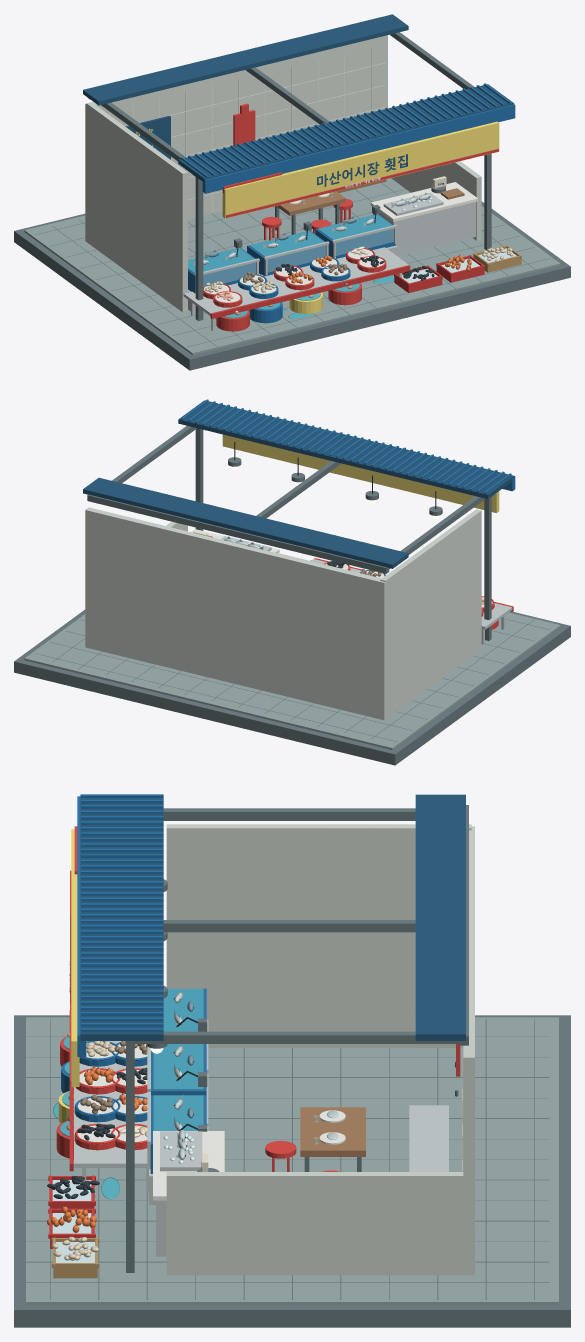
Rendered from bada-restaurant.glb.
3 renders of one model, top to bottom at view 1: azimuth 30°, elevation 25°; view 2: azimuth 150°, elevation 25°; view 3: azimuth 270°, elevation 25°, orthographic. The views are drawn at different scales.
Parts seen in each view (by area): view 1: Wet concrete floor, Back tiled wall, Left side wall, Raised market diorama base, Main sign board, Rear roof cutaway, Dark blue front awning, Front awning lip, Seafood preparation counter, Front seafood display table top, Right side wall, Live fish tank 3 | basin (+25 smaller); view 2: Back tiled wall, Wet concrete floor, Left side wall, Raised market diorama base, Dark blue front awning, Rear roof cutaway, Main sign board, Roof beam 3.55, Front steel post -5.45, Roof crossbeam -5.45, Roof crossbeam 0, Roof crossbeam 5.45 (+2 smaller); view 3: Wet concrete floor, Left side wall, Right side wall, Raised market diorama base, Rear roof cutaway, Dark blue front awning, Back tiled wall, Roof crossbeam 5.45, Roof crossbeam -5.45, Roof crossbeam 0, Dining table top, Back counter top (+13 smaller).
Boxes of the visible parts, x1,y1,x2,y2 form: Wet concrete floor: (24,178,560,354); Back tiled wall: (85,35,387,241); Left side wall: (86,102,187,312); Raised market diorama base: (14,201,570,370); Main sign board: (222,121,499,218); Rear roof cutaway: (83,14,408,105); Dark blue front awning: (178,84,514,182); Front awning lip: (202,104,515,193); Seafood preparation counter: (373,202,475,255); Front seafood display table top: (183,247,408,315); Right side wall: (383,109,481,240); Live fish tank 3 | basin: (315,214,395,258); Back tiled wall: (85,507,385,720); Wet concrete floor: (24,612,560,749); Left side wall: (380,509,481,718); Raised market diorama base: (14,609,570,765); Dark blue front awning: (178,400,514,498); Rear roof cutaway: (83,477,408,568); Main sign board: (222,434,499,512); Roof beam 3.55: (87,494,389,573); Front steel post -5.45: (484,497,491,640); Roof crossbeam -5.45: (389,496,485,568); Roof crossbeam 0: (256,461,341,518); Roof crossbeam 5.45: (112,426,196,483); Wet concrete floor: (26,1017,558,1304); Left side wall: (166,824,471,1047); Right side wall: (166,1172,471,1275); Raised market diorama base: (14,1015,570,1327); Rear roof cutaway: (415,794,465,1040); Dark blue front awning: (80,794,163,1040); Back tiled wall: (463,826,474,1275); Roof crossbeam 5.45: (135,1031,459,1043); Roof crossbeam -5.45: (163,808,415,820); Roof crossbeam 0: (163,920,415,932); Dining table top: (300,1107,365,1156); Back counter top: (409,1105,448,1171).
Bounding box in the file's own units: 14.4 × 6.11 × 11.5.
